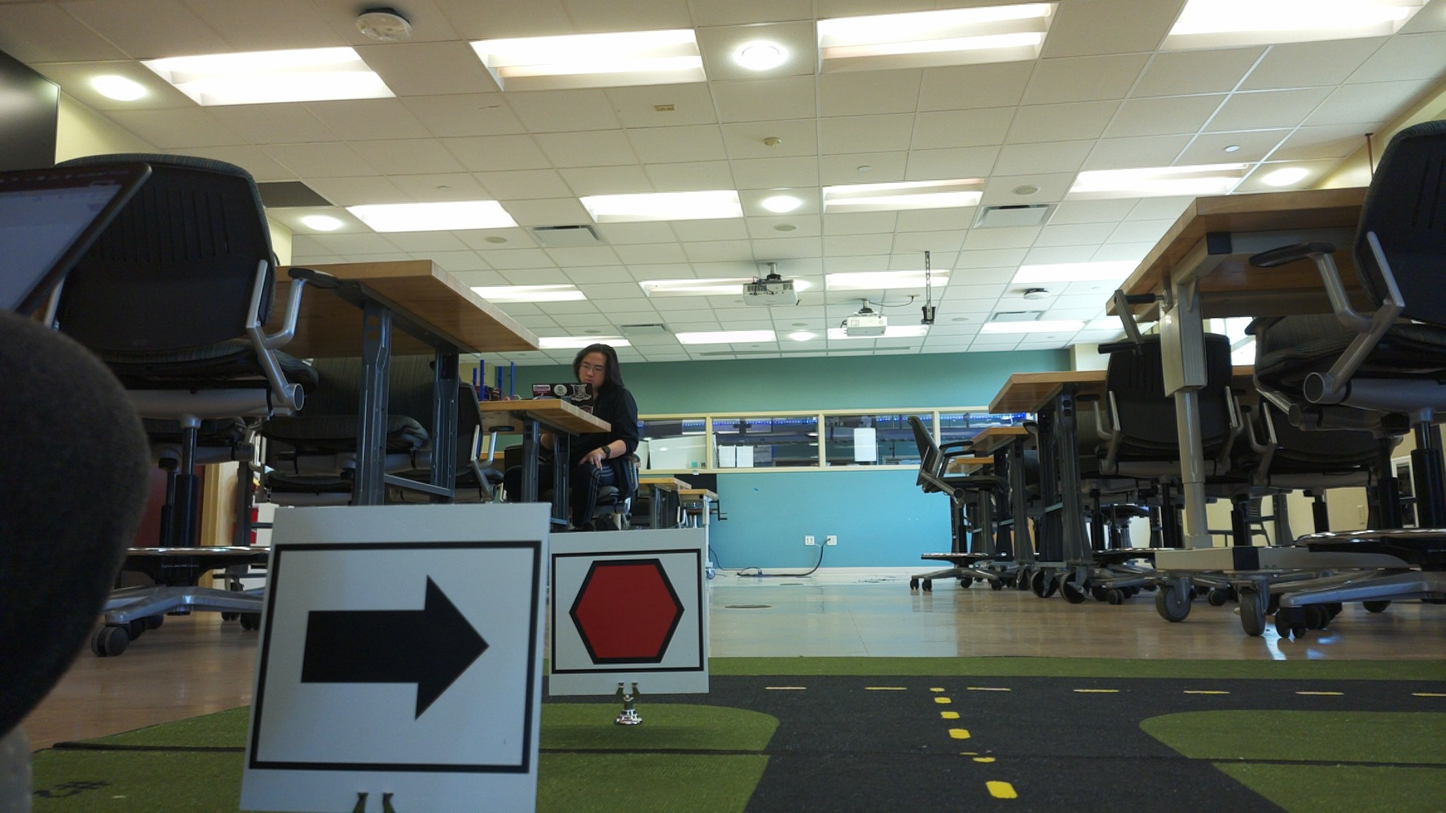stop: (555, 552, 703, 670)
turnright: (273, 545, 532, 769)
yellowline: (934, 696, 1019, 803)
